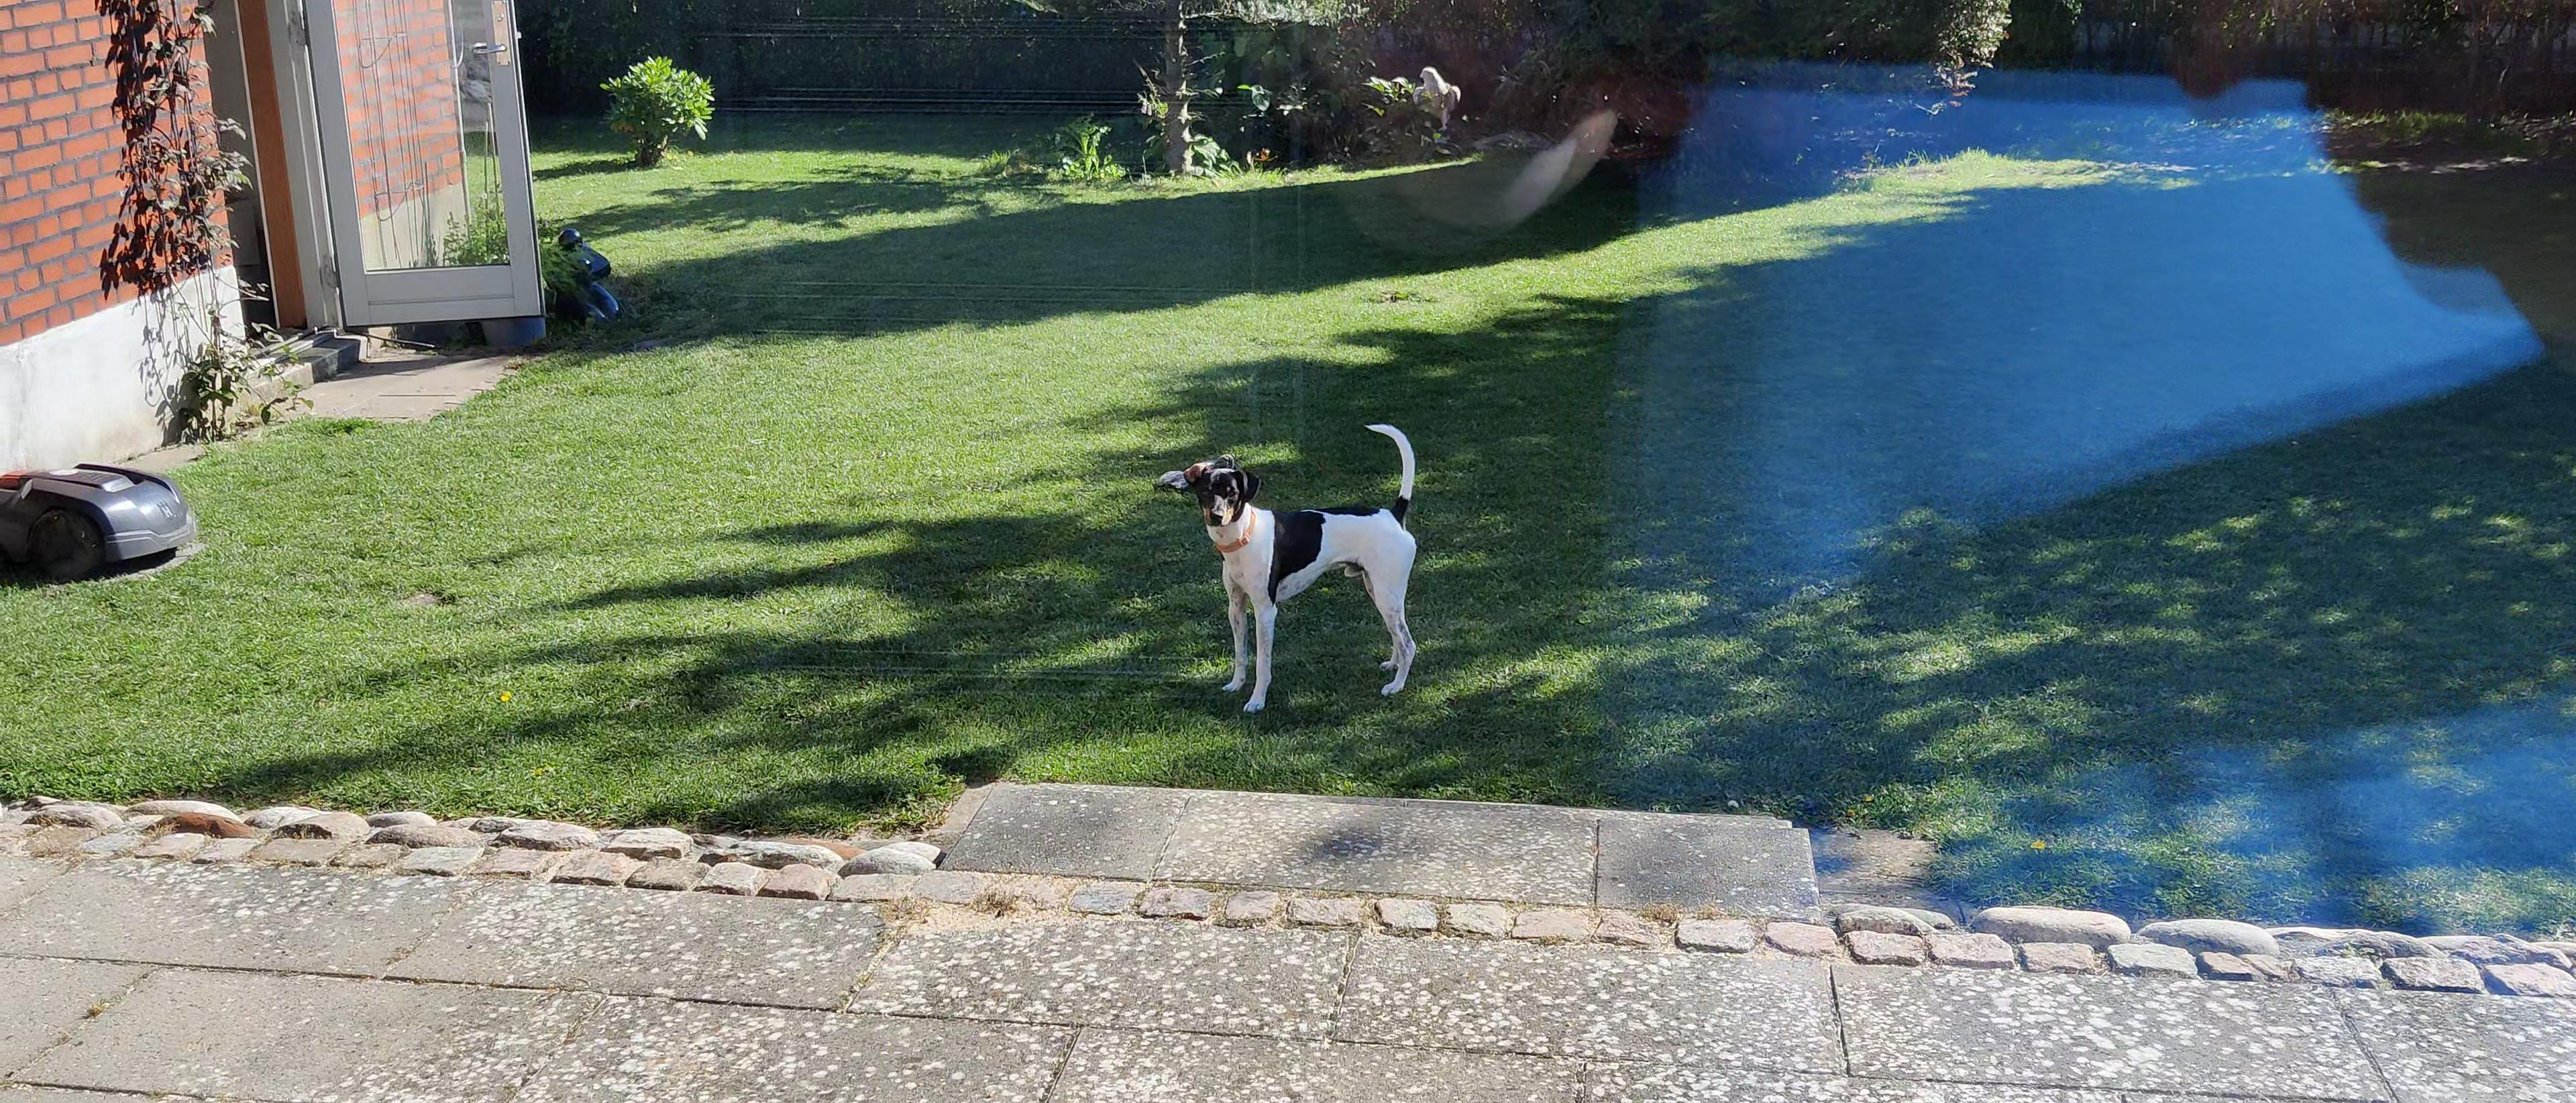Dog: (1173, 404, 1431, 725)
